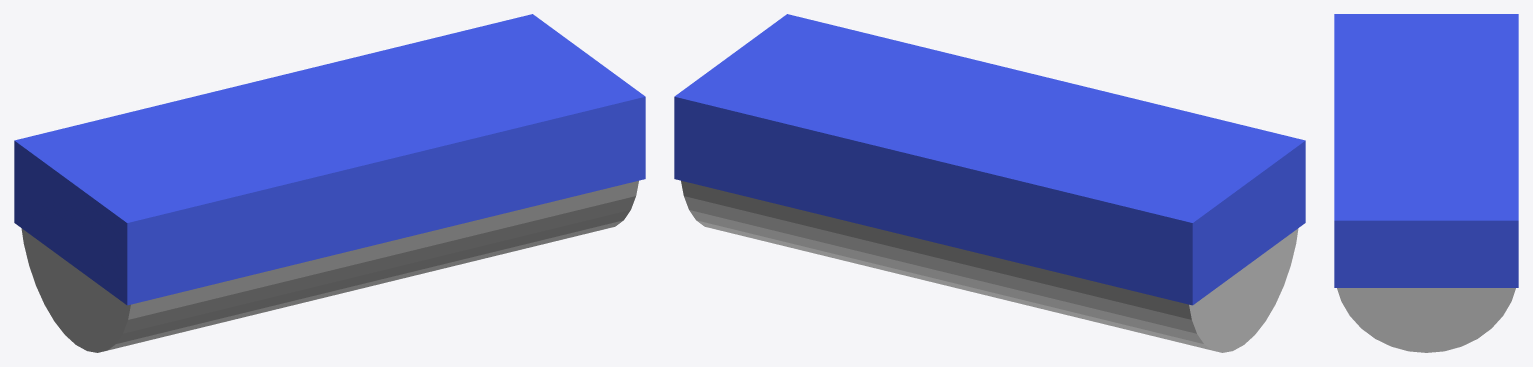
File: penghapus.fbx
The picture shows the model from 3 angles, left to right: view 1: azimuth 30°, elevation 25°; view 2: azimuth 150°, elevation 25°; view 3: azimuth 270°, elevation 25°; orthographic projection. The views are drawn at different scales.
Parts seen in each view (by area): view 1: Cube, Cylinder; view 2: Cube, Cylinder; view 3: Cube, Cylinder.
Part boxes in pixels (bbox=[...]): Cube: bbox=[14, 14, 645, 305]; Cylinder: bbox=[21, 180, 638, 352]; Cube: bbox=[674, 14, 1305, 305]; Cylinder: bbox=[681, 180, 1298, 352]; Cube: bbox=[1334, 14, 1518, 287]; Cylinder: bbox=[1337, 288, 1515, 352].
Bounding box in the file's own units: 530 × 161 × 200.
